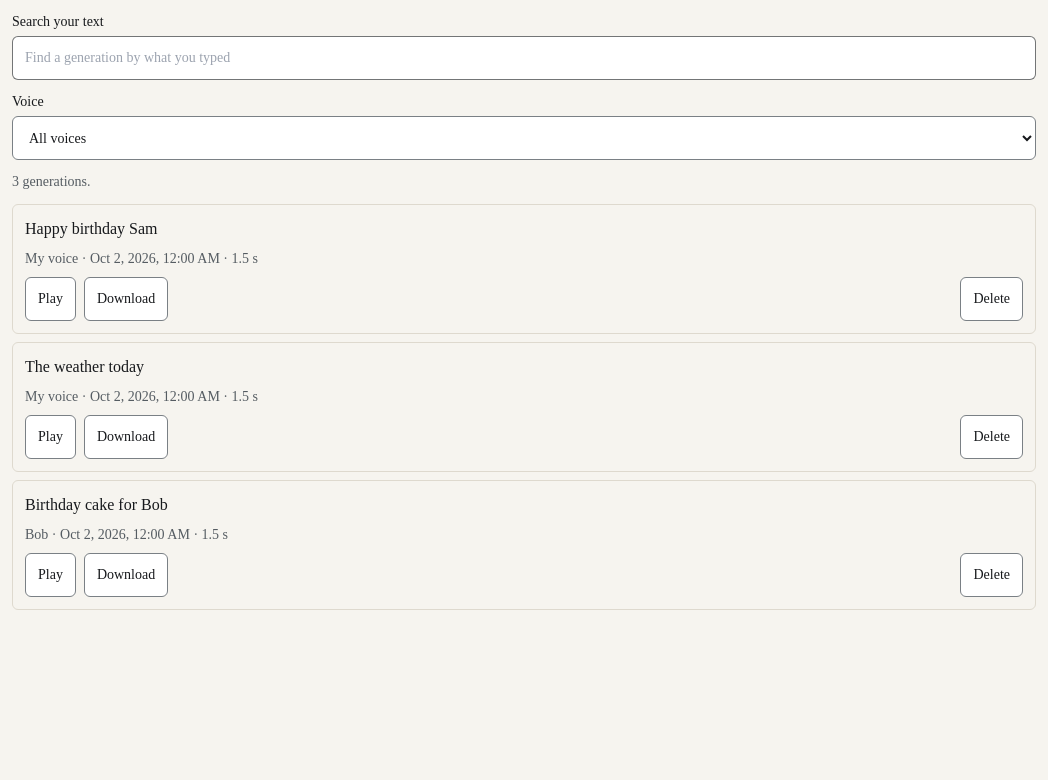
Test: History search › does not treat text as markup
Expected: the text "Happy birthday Sam" is shown, [25,220,157,237]
Type "<b>x</b>" into the search field labelled "Search your text" at (524, 58), box [12,36,1036,80]
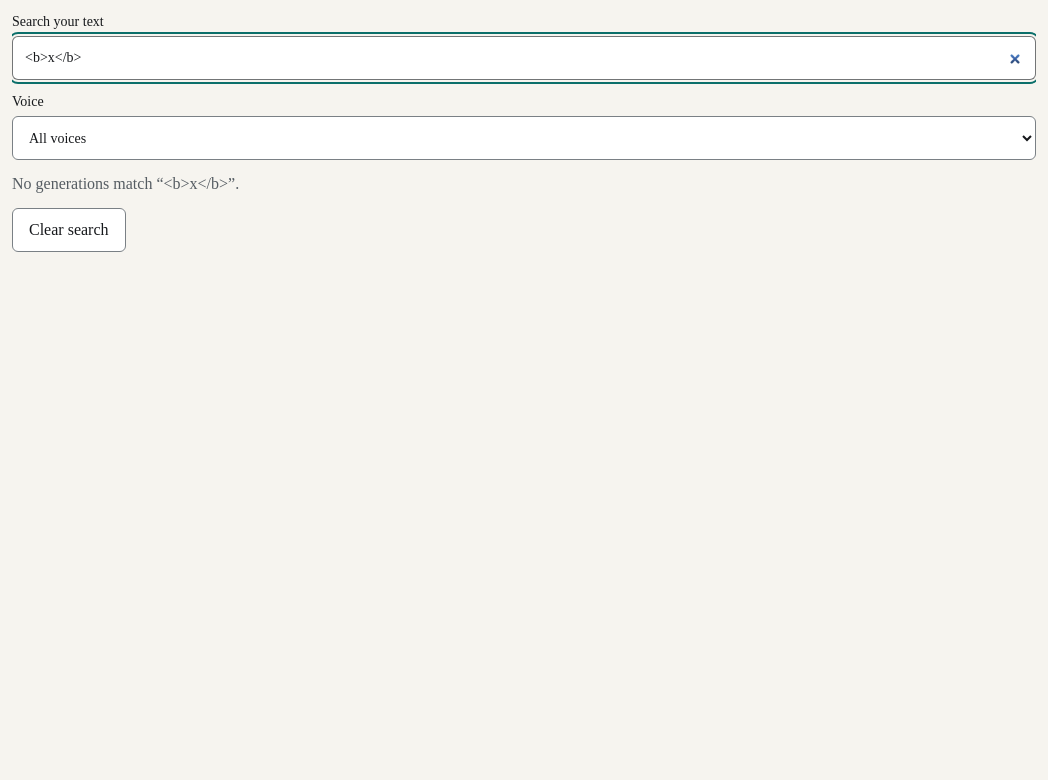
Expected: the text "No generations match “<b>x</b>”." is shown, [12,175,239,192]
